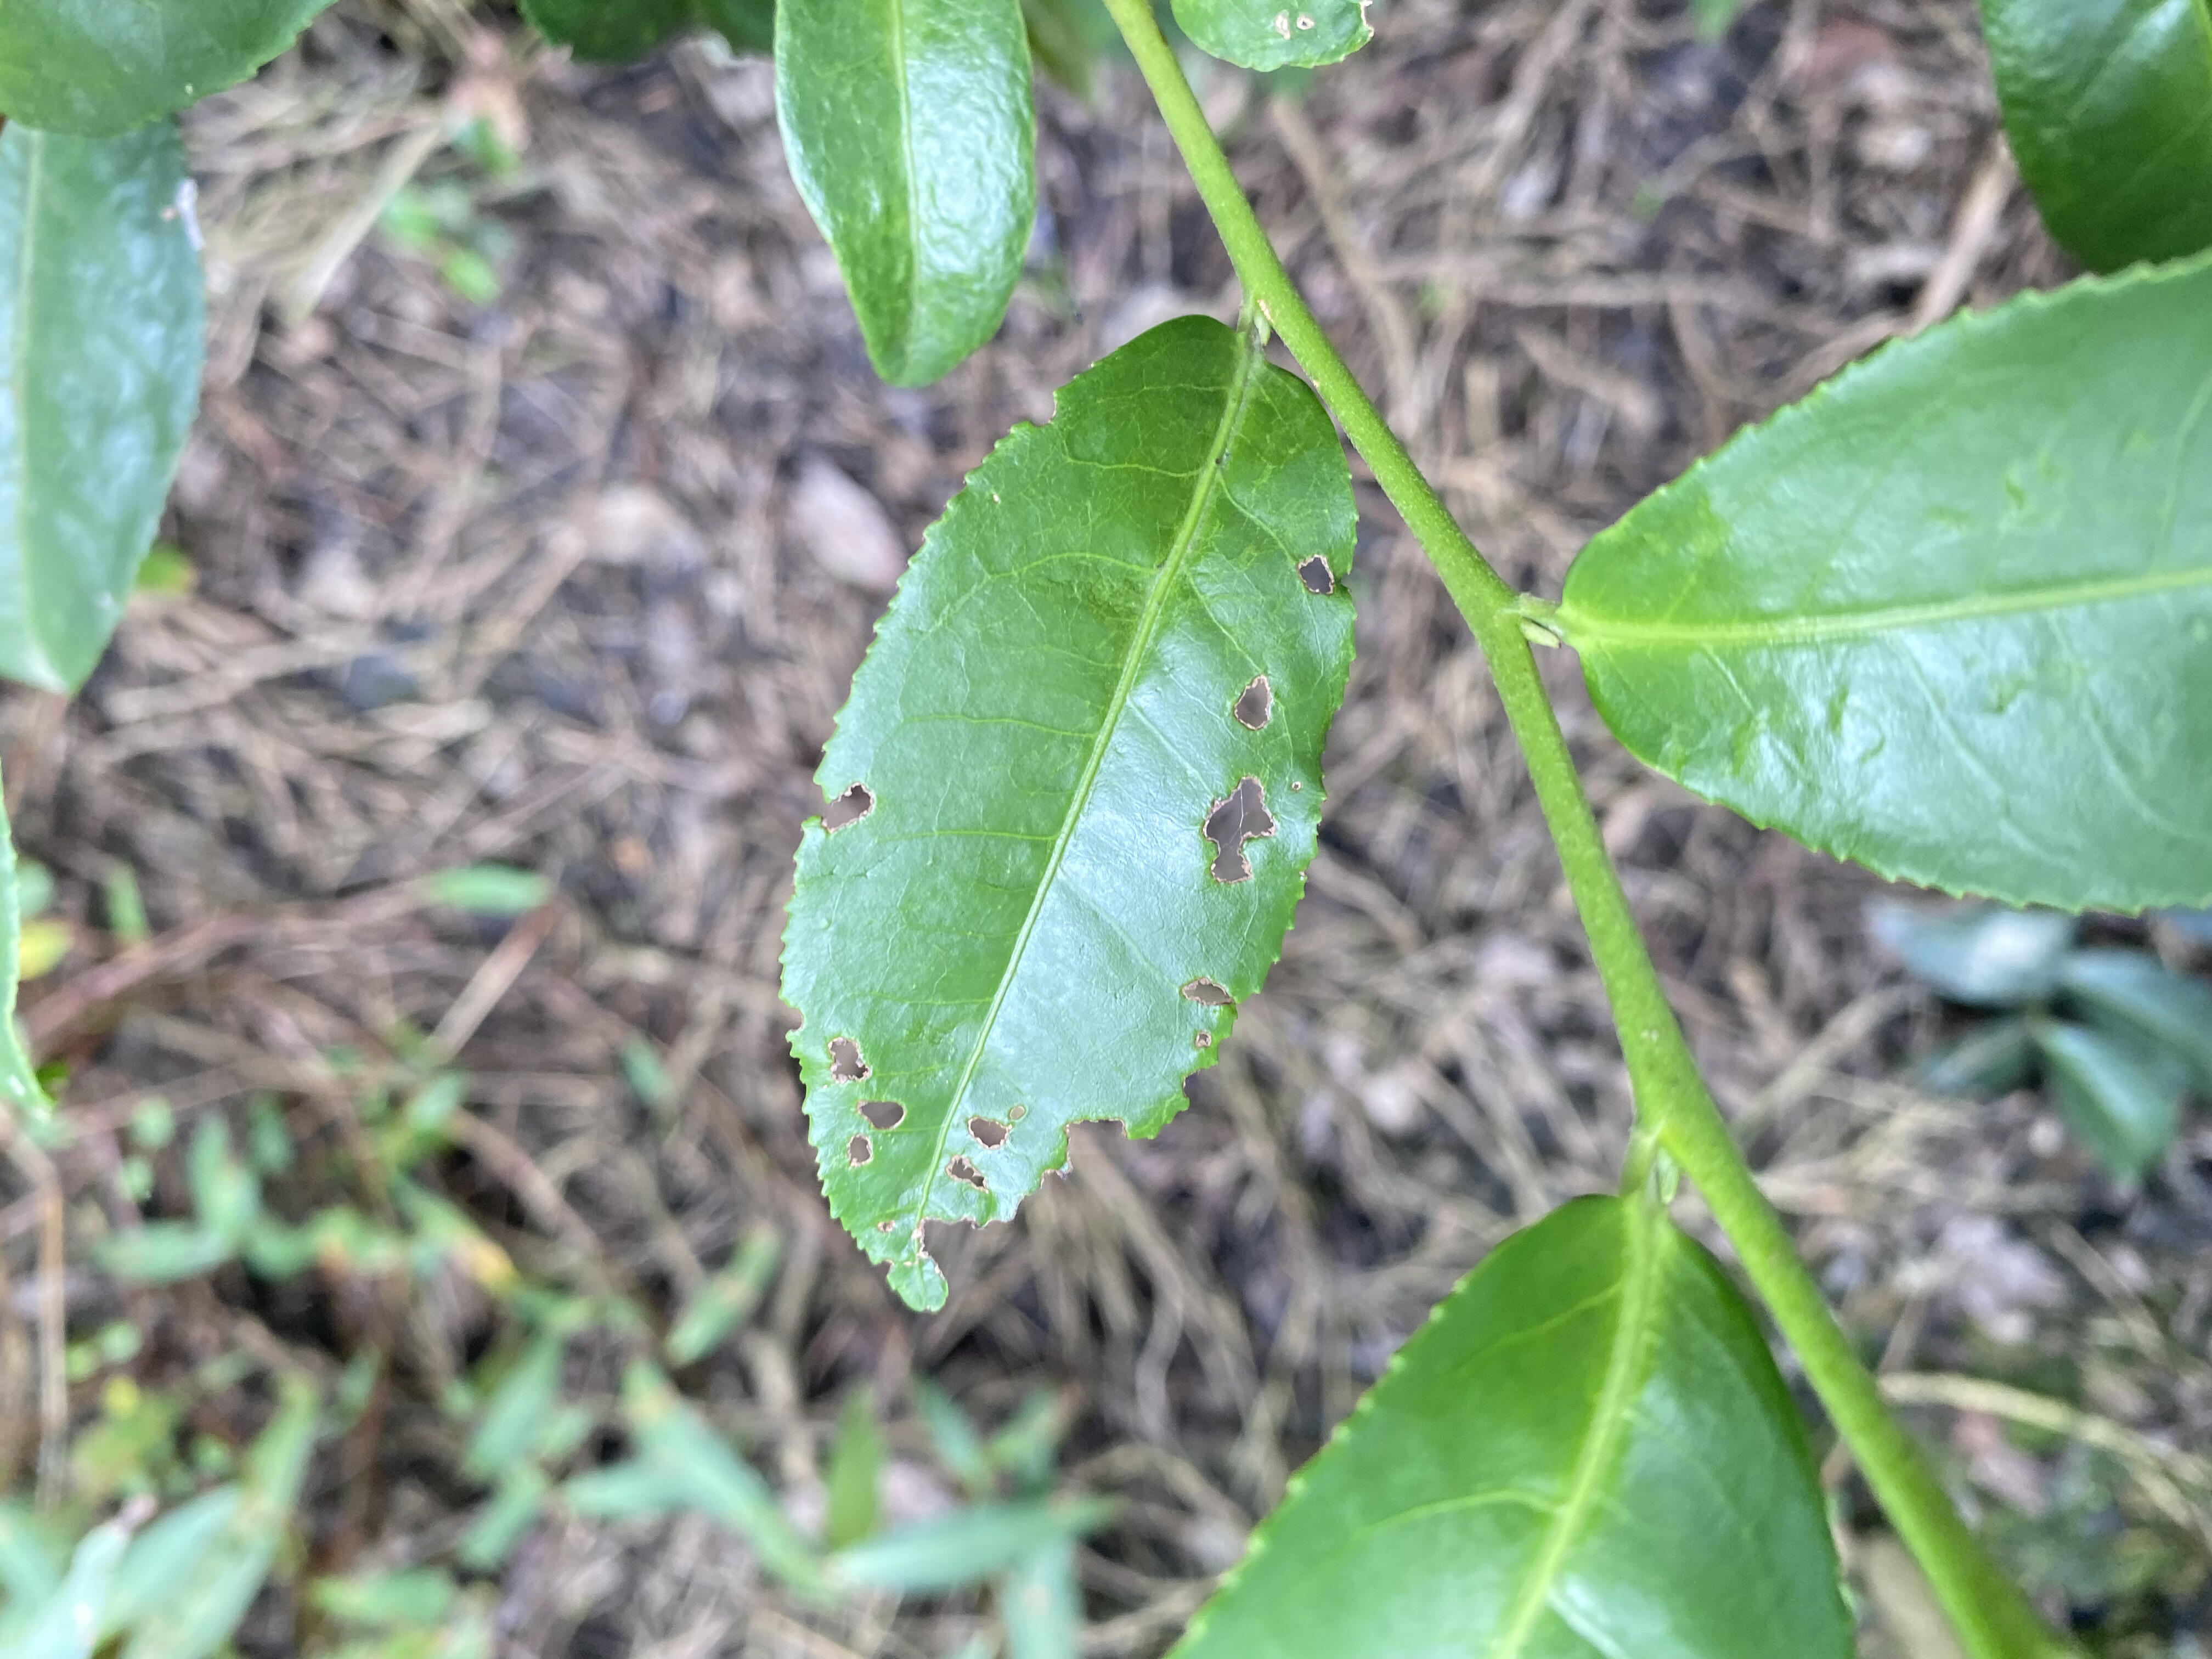chihuo_high: (775, 312, 1364, 1317)
healthy: (1569, 253, 2212, 918), (765, 2, 1042, 389)
